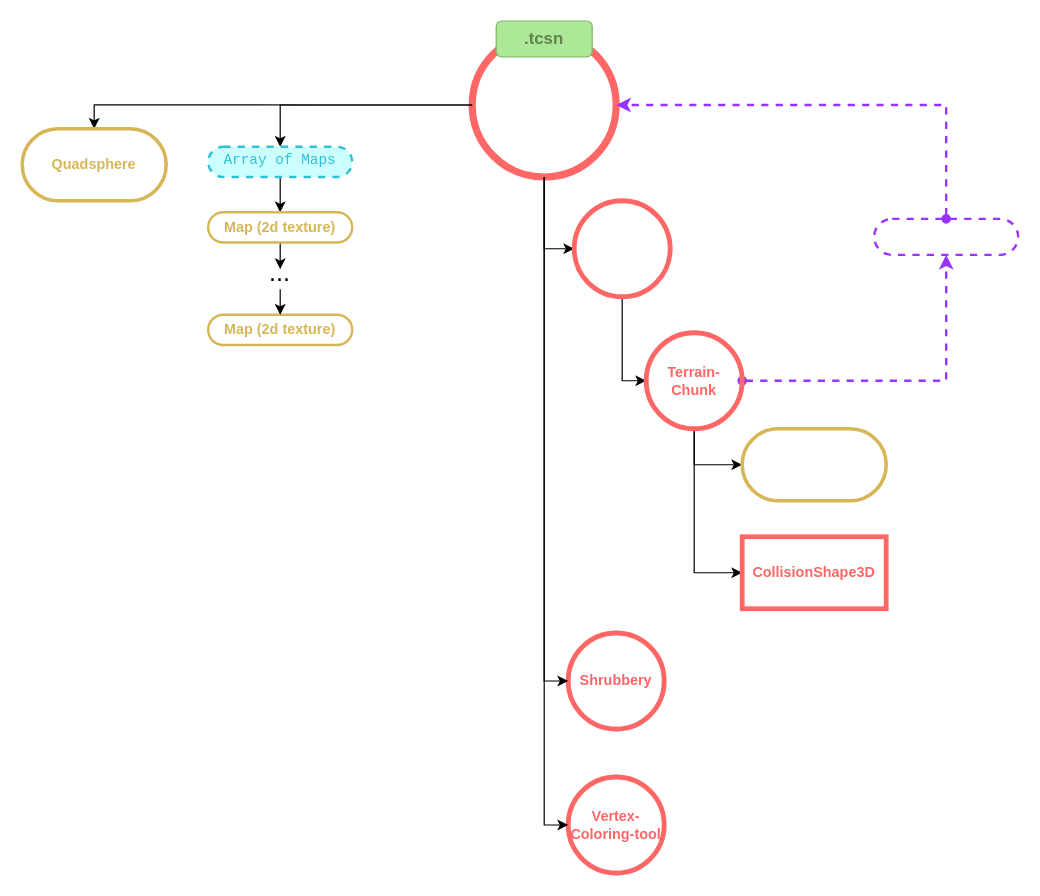
Image size: 1040x896. Some labels were removed from this diagram. The shapes that lost their labels are listed below. From the top down, each one's box as (x1, y1, x2, y2) in pixels, then its label:
(468, 29, 619, 180): Planetoid
(571, 198, 672, 299): Terrain-Manager
(872, 217, 1019, 255): Emit Chunk Update
(740, 426, 887, 502): ArrayMesh
